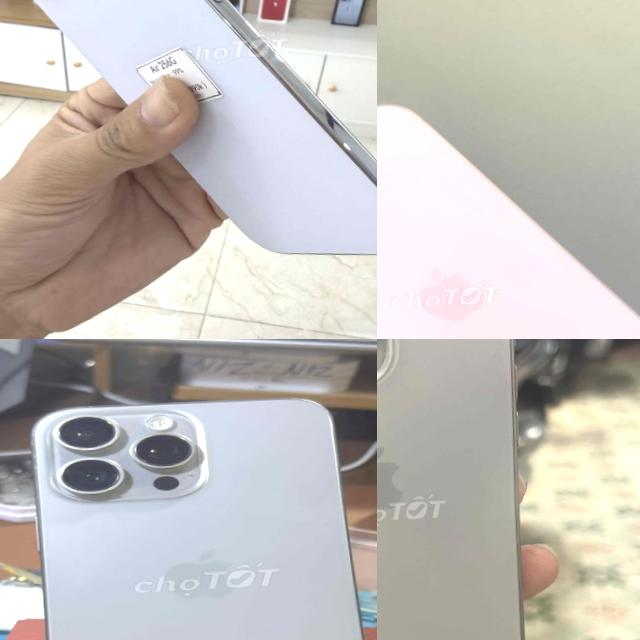gen_14: (33, 395, 377, 640)
gen_15: (377, 80, 640, 339), (377, 339, 545, 640)
gen_17: (0, 0, 377, 297)
